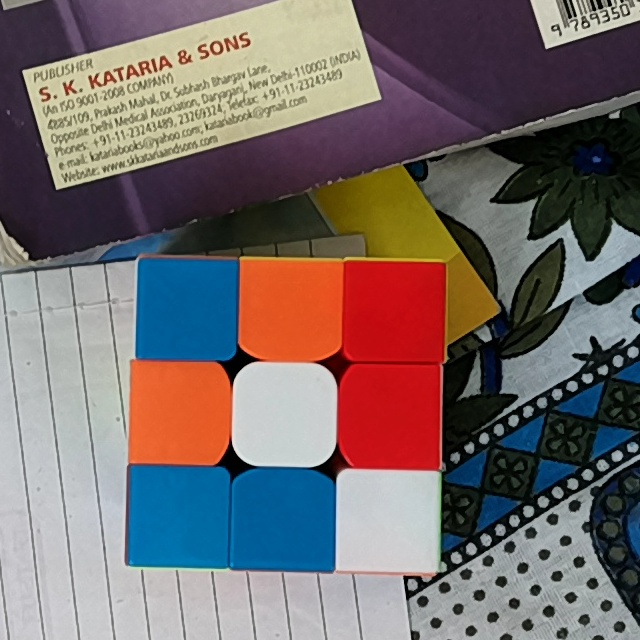tile: (341, 474, 432, 569), (349, 266, 439, 354), (351, 371, 438, 461), (132, 473, 223, 559), (243, 269, 335, 351), (136, 367, 222, 453), (242, 374, 328, 459), (239, 480, 327, 563), (142, 268, 227, 351)
